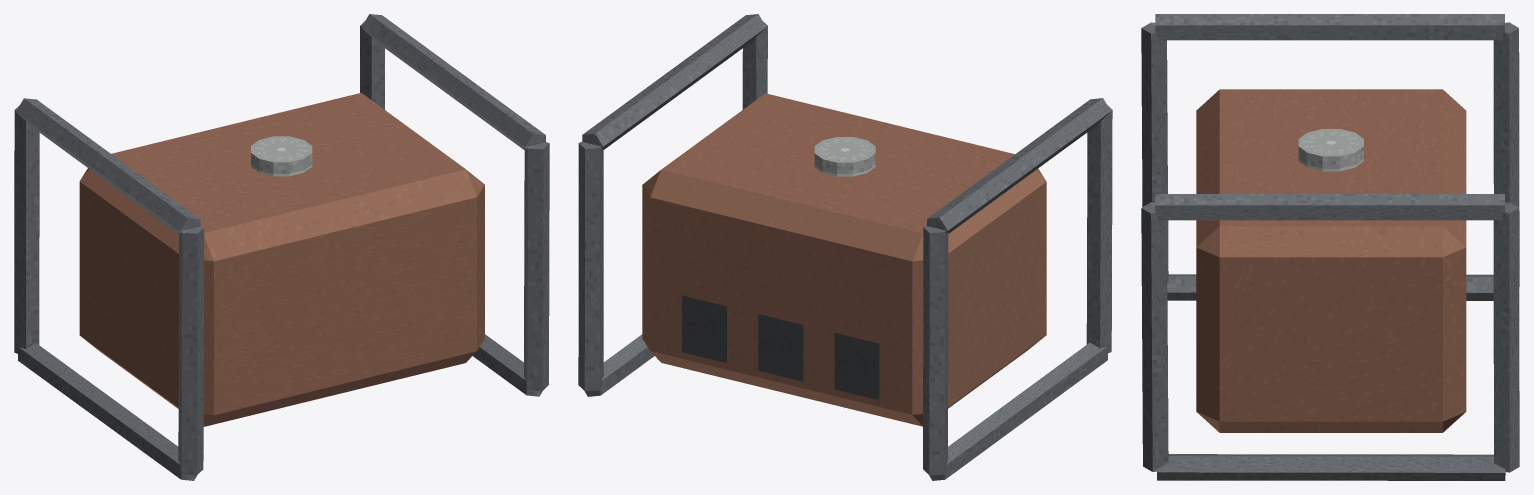
The model's file is diesel_generator.glb.
3 views of the same model, side by side, from view 1: azimuth 30°, elevation 25°; view 2: azimuth 150°, elevation 25°; view 3: azimuth 270°, elevation 25° (orthographic). The views are drawn at different scales.
Visible parts, largest first — view 1: block_engine generator housing, block_generator roll frame 1 (×2), block_generator roll frame 2 (×2), block_generator roll frame 3 (×2), block_generator roll frame 0 (×2), block_fuel cap; view 2: block_engine generator housing, block_generator roll frame 3 (×2), block_generator roll frame 2 (×2), block_socket and switch (×3), block_generator roll frame 1 (×2), block_generator roll frame 0 (×2), block_fuel cap; view 3: block_engine generator housing, block_generator roll frame 2 (×2), block_generator roll frame 3 (×2), block_generator roll frame 1 (×2), block_generator roll frame 0 (×2), block_fuel cap.
Boxes of the visible parts, x1=… form: block_engine generator housing: x1=79, y1=92, x2=484, y2=426; block_generator roll frame 1 (×2): x1=178, y1=142, x2=549, y2=475; block_generator roll frame 2 (×2): x1=16, y1=14, x2=545, y2=234; block_generator roll frame 3 (×2): x1=14, y1=21, x2=384, y2=353; block_generator roll frame 0 (×2): x1=18, y1=334, x2=542, y2=480; block_fuel cap: x1=251, y1=136, x2=312, y2=176; block_engine generator housing: x1=642, y1=93, x2=1046, y2=426; block_generator roll frame 3 (×2): x1=578, y1=142, x2=948, y2=475; block_generator roll frame 2 (×2): x1=582, y1=14, x2=1110, y2=233; block_socket and switch (×3): x1=682, y1=295, x2=879, y2=399; block_generator roll frame 1 (×2): x1=742, y1=21, x2=1112, y2=353; block_generator roll frame 0 (×2): x1=584, y1=334, x2=1107, y2=480; block_fuel cap: x1=814, y1=137, x2=875, y2=176; block_engine generator housing: x1=1196, y1=89, x2=1466, y2=432; block_generator roll frame 2 (×2): x1=1155, y1=14, x2=1504, y2=220; block_generator roll frame 3 (×2): x1=1493, y1=22, x2=1519, y2=472; block_generator roll frame 1 (×2): x1=1141, y1=22, x2=1168, y2=471; block_generator roll frame 0 (×2): x1=1157, y1=274, x2=1505, y2=480; block_fuel cap: x1=1298, y1=129, x2=1363, y2=171.
Bounding box in the file's own units: 0.92 × 0.6337 × 0.7667.
1 material, 1 textured.
